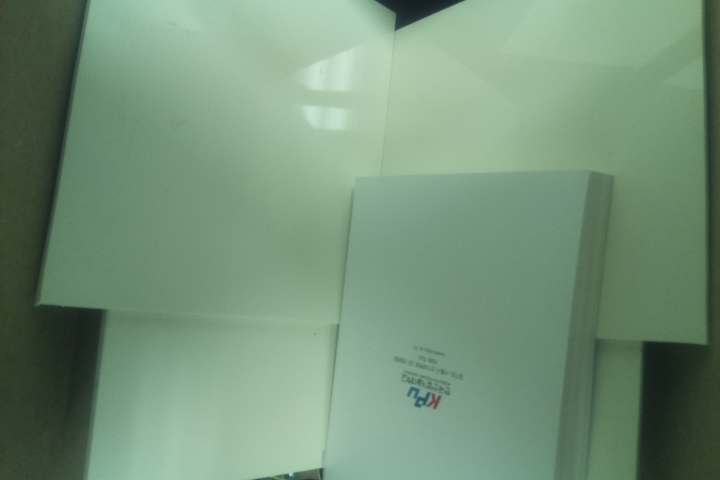book: (318, 168, 617, 480)
